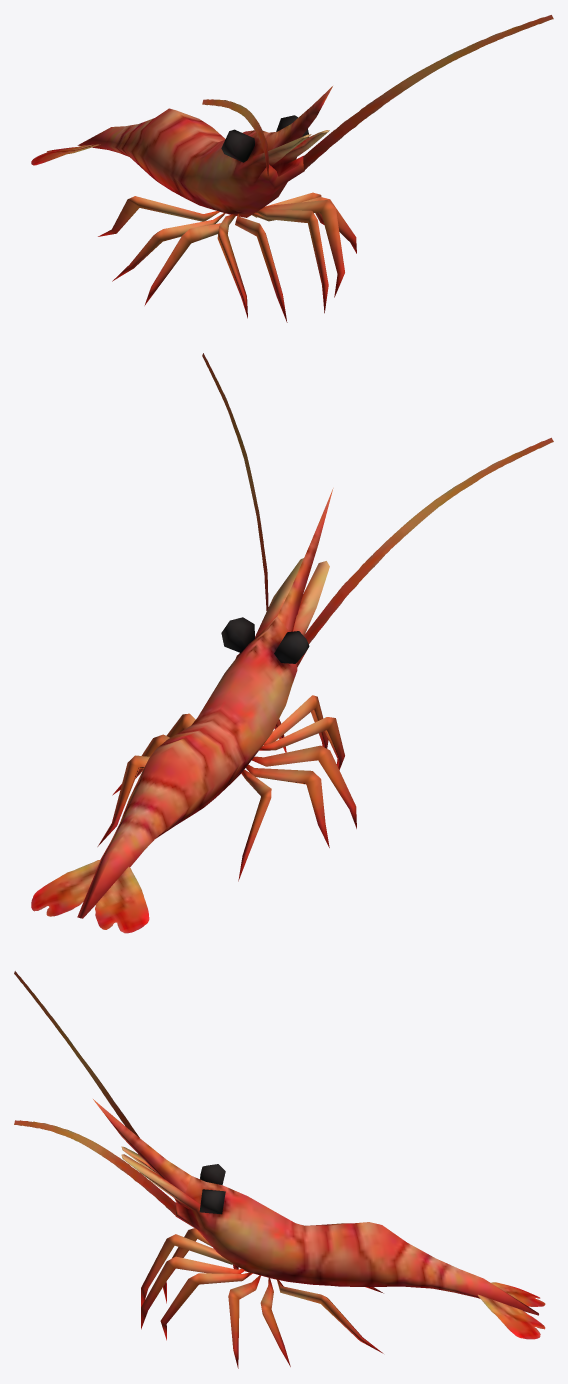
The model's file is sweet-shrimp.glb.
3 renders of one model, top to bottom at view 1: azimuth 30°, elevation 25°; view 2: azimuth 150°, elevation 25°; view 3: azimuth 270°, elevation 25°, orthographic. The views are drawn at different scales.
Size of the model in its own units: 2.63 by 2.26 by 3.97.
Materials: 1 (1 with a texture image).
